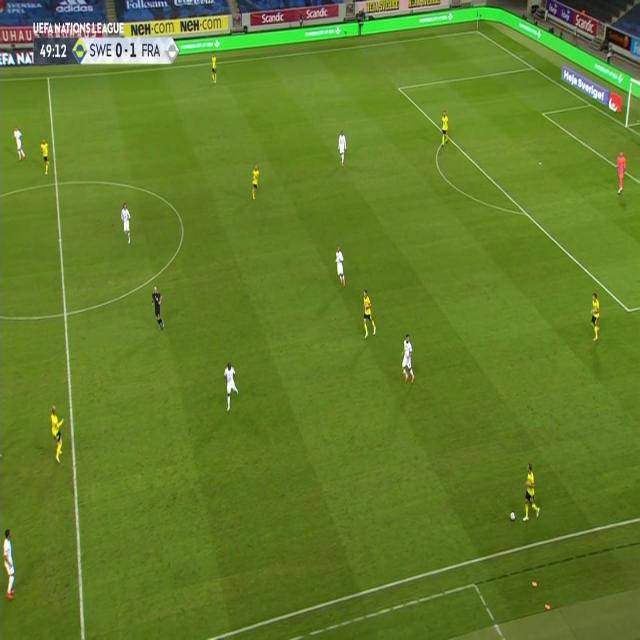ball: (510, 509, 516, 521)
player: (520, 461, 541, 522), (1, 526, 18, 600), (49, 404, 66, 464), (359, 286, 377, 339), (222, 361, 240, 413), (400, 332, 416, 385), (150, 284, 166, 332), (588, 292, 602, 342), (614, 148, 628, 194), (11, 124, 26, 160), (334, 244, 346, 286), (120, 201, 132, 243), (39, 136, 51, 175), (438, 110, 450, 148), (336, 129, 348, 166), (250, 162, 260, 202), (210, 51, 218, 84)
